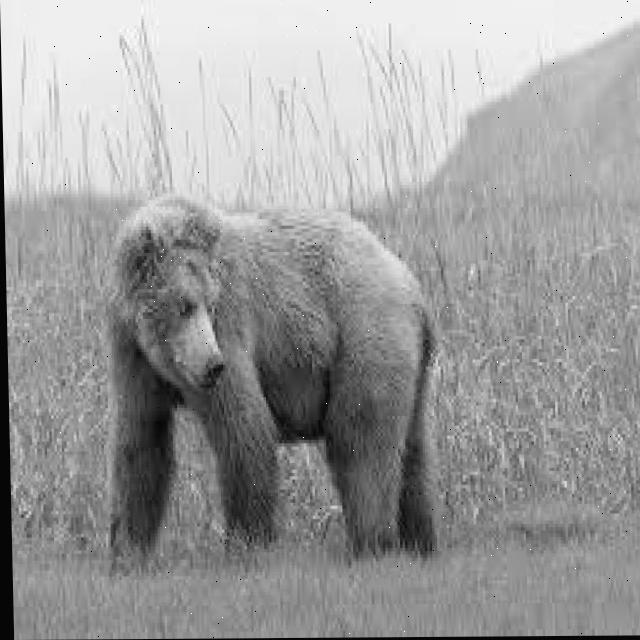Bear: (107, 198, 422, 511)
